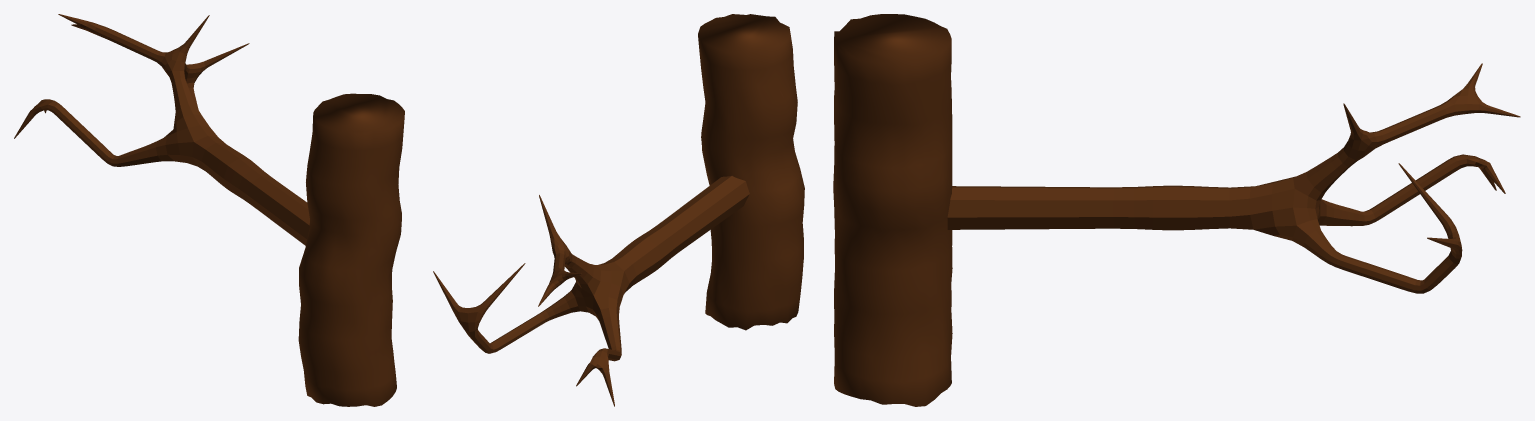
Rendered from WoodObstacle.fbx.
3 renders of one model, left to right at view 1: azimuth 30°, elevation 25°; view 2: azimuth 150°, elevation 25°; view 3: azimuth 270°, elevation 25°, orthographic. The views are drawn at different scales.
Parts seen in each view (by area): view 1: Cylinder.017, woodSlide; view 2: Cylinder.017, woodSlide; view 3: Cylinder.017, woodSlide.
Part boxes in pixels (<box>): Cylinder.017: <box>298,93,404,406</box>; woodSlide: <box>14,14,309,245</box>; Cylinder.017: <box>698,14,804,330</box>; woodSlide: <box>433,176,749,406</box>; Cylinder.017: <box>833,14,952,406</box>; woodSlide: <box>947,63,1520,293</box>.
Bounding box in the file's own units: 522 × 669 × 1171.
